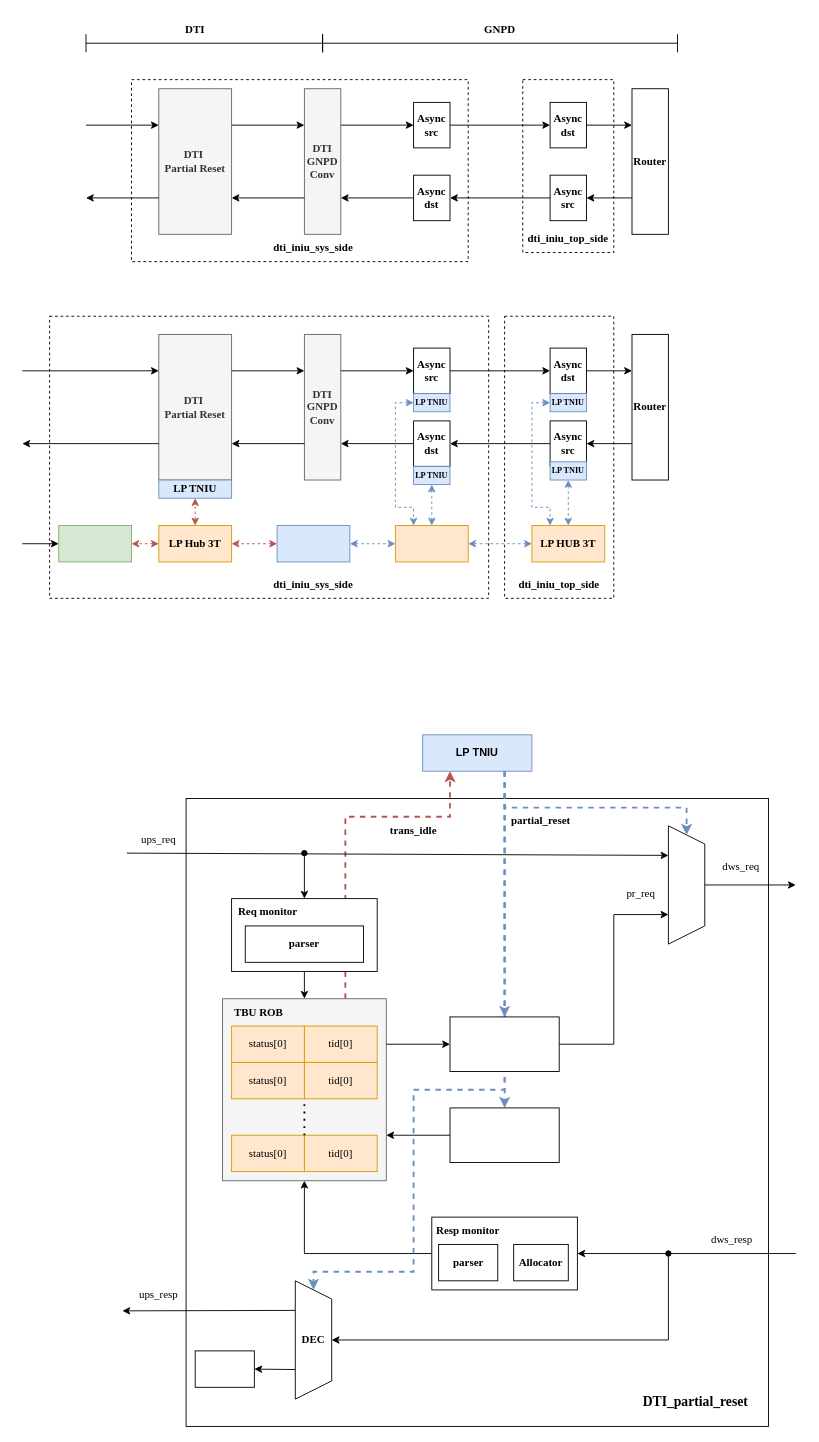
Image size: 819x1442. Some labels were removed from this diagram. The centre of each missing label's shape, as x and y in pixels:
"ARB" belongs at point 686,884.
"Disconnect Gen" belongs at point 504,1044.
"DS" belongs at point 224,1368.
"LP HUB 4T" belongs at point 431,543.
"LP INIU" belongs at point 94,543.
"LP Nest" belongs at point 313,543.
"partial reset update" belongs at point 504,1135.
